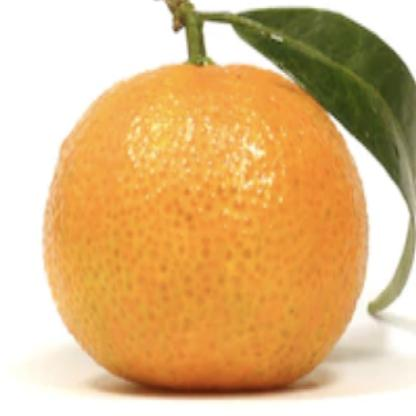fresh: (46, 51, 371, 399)
